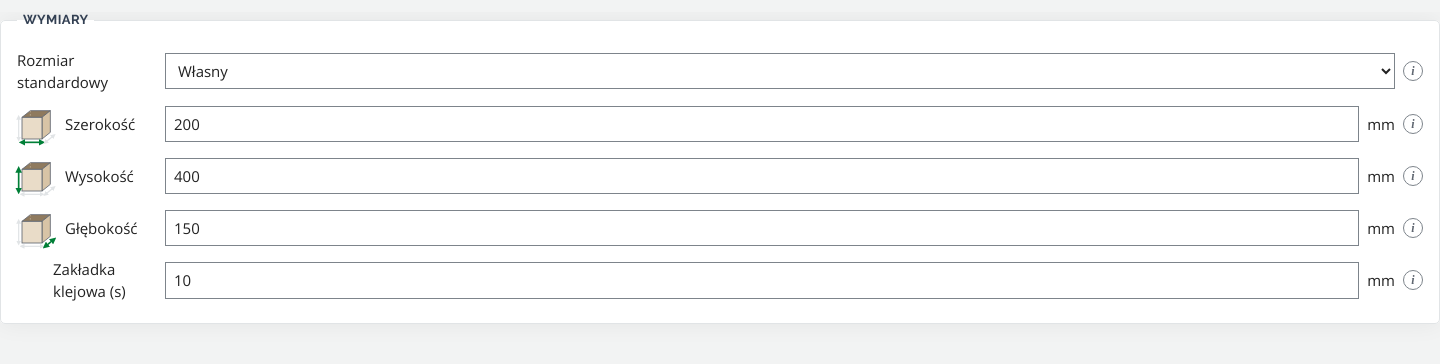
DimensionsForm — width/depth lock › reverts an empty field to the stored value on blur
Clear the number field labelled "Szerokość" at (762, 124), box 165,106 -> 1359,142
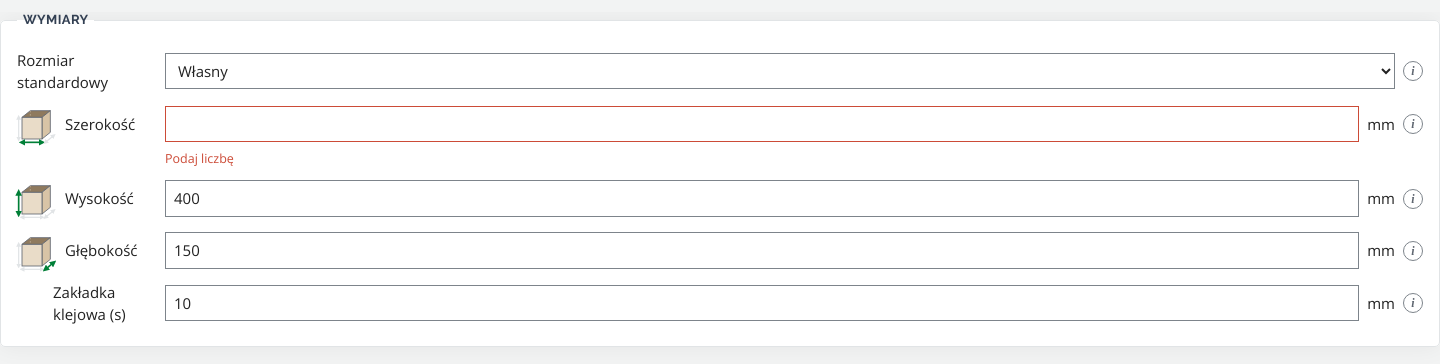
expect the text "Podaj liczbę" is shown: met, box 165,150 -> 234,167
Leave the number field labelled "Szerokość", box 165,106 -> 1359,142
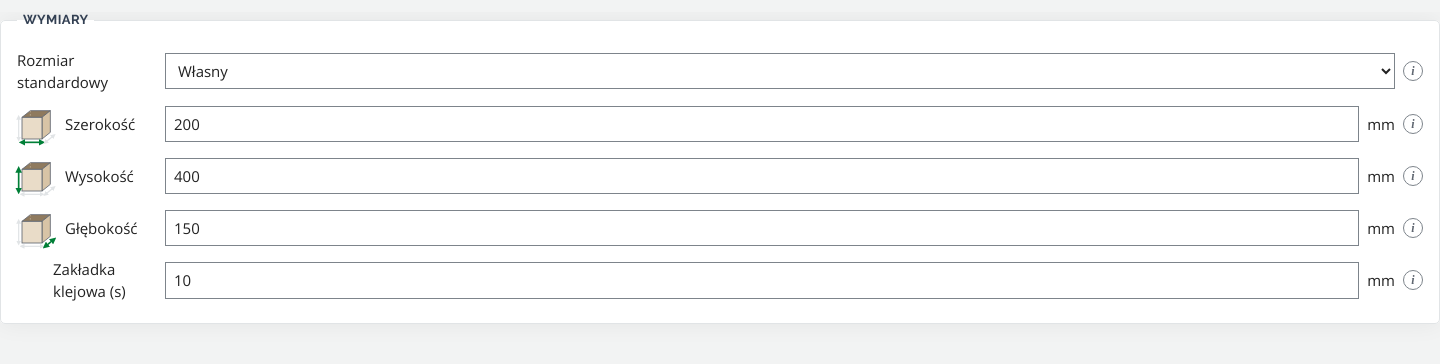
expect the number field labelled "Szerokość" holds "200": met, box 165,106 -> 1359,142
